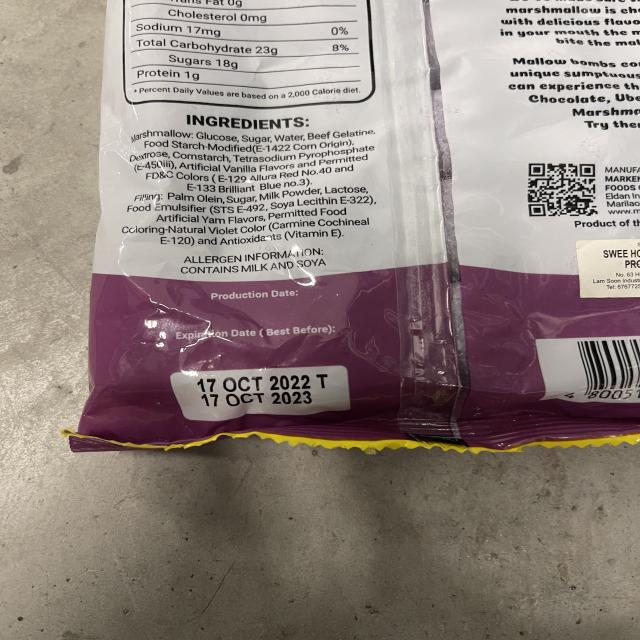object_name: (97, 0, 640, 440)
